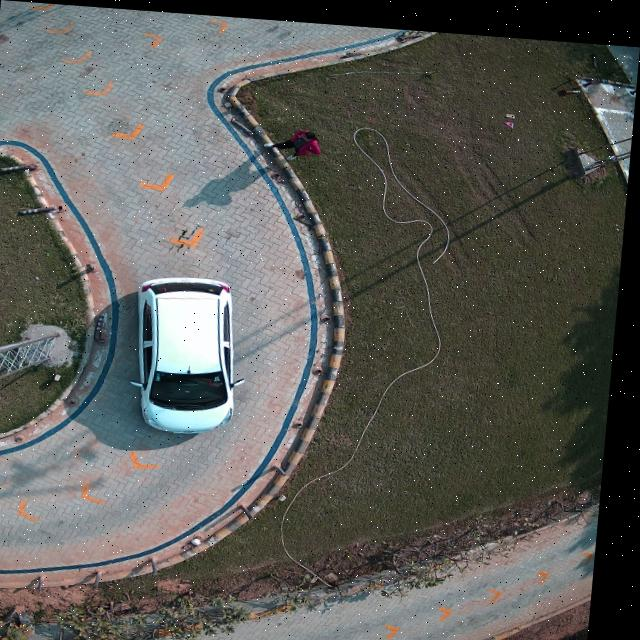car: (139, 273, 248, 431)
